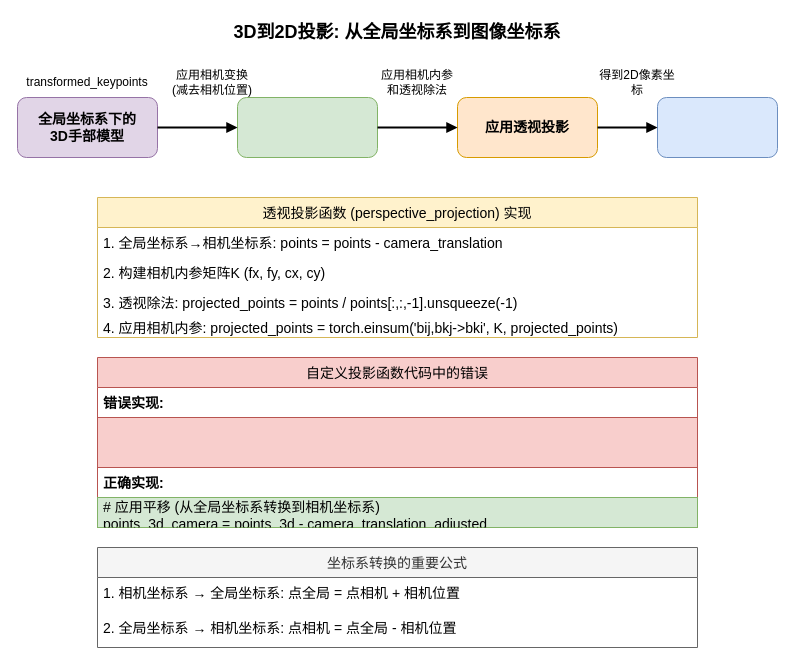
Some shapes in this 795 by 665 pixel diagram are drawn without their labels. Each missing label, with the centre of its shape:
"# 应用平移 (错误方向) points_3d_camera = points_3d + camera_translation_adjusted" goes at point (397, 442).
"2D图像上的点" goes at point (717, 127).
"相机坐标系下的 3D手部模型" goes at point (307, 127).
